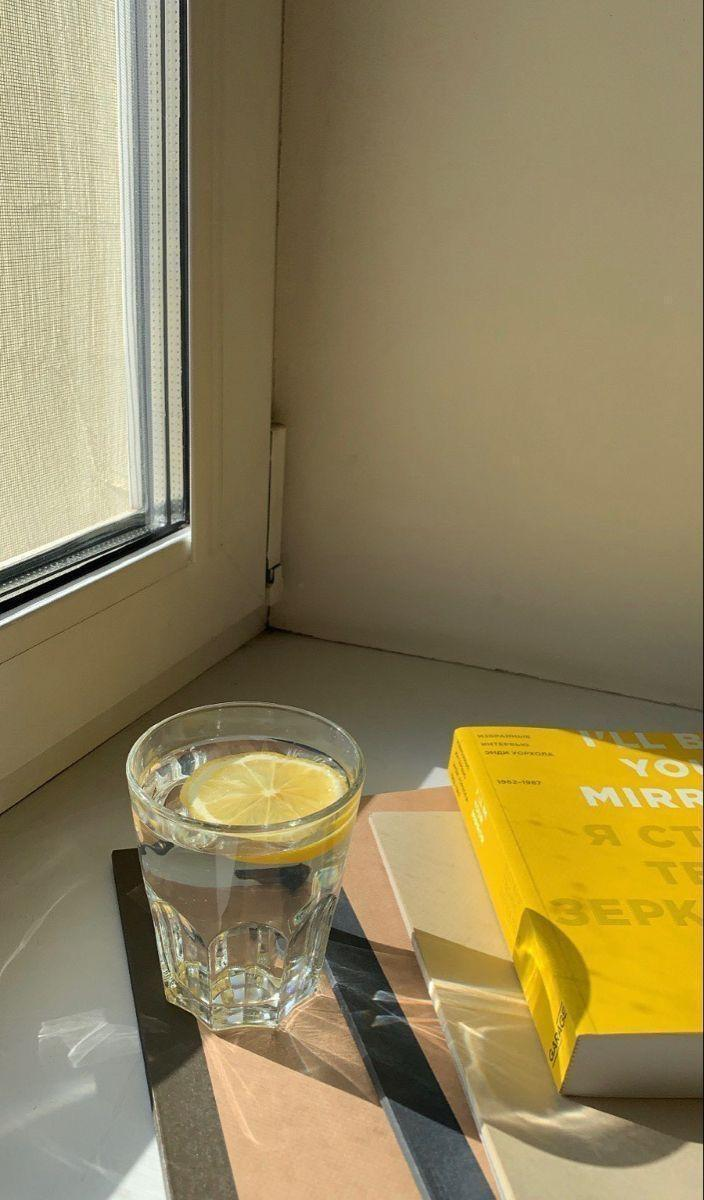glass-normal: (120, 701, 367, 1029)
